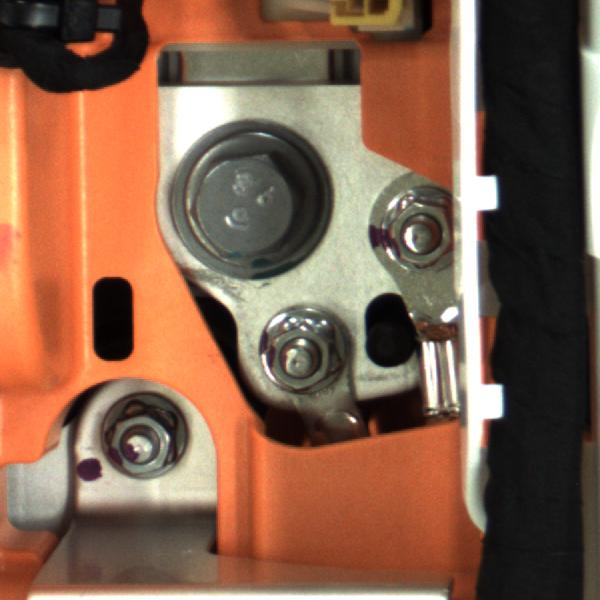nut_b: (170, 127, 331, 269)
screw_s: (248, 303, 361, 399), (94, 380, 195, 483), (375, 183, 463, 269)
